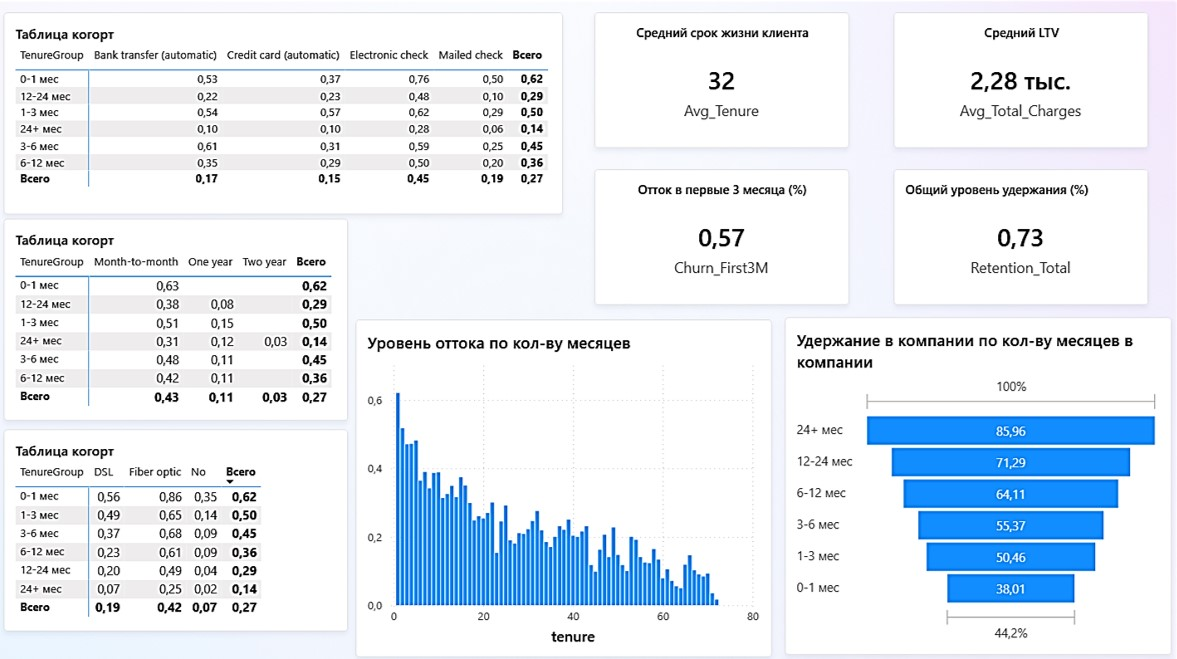

What the dashboard file says about the page in this screenshot:
{"tool":"powerbi","page":{"name":"Воронка удержания","canvas":[1280,720],"ordinal":1},"visuals":[{"type":"funnel","title":"Удержание в компании по количеству месяцев в компании","fields":{"Category":["Telcom.TenureGroup"],"Y":["Telcom.Удержание_в_группе"]},"box":[830.2,283.5,442.8,426.6],"z":0},{"type":"clusteredColumnChart","title":"Уровень оттока по кол-ву месяцев","fields":{"Category":["Telcom.tenure"],"Y":["Telcom.Уровень_Оттока"]},"box":[253.8,283.5,566.9,426.6],"z":1},{"type":"pivotTable","title":"Таблица когорт","fields":{"Rows":["Telcom.TenureGroup"],"Columns":["Telcom.InternetService"],"Values":["Telcom.Уровень_Оттока"]},"box":[522.4,12.1,334.8,245.7],"z":2},{"type":"pivotTable","title":"Таблица когорт","fields":{"Rows":["Telcom.TenureGroup"],"Values":["Telcom.Уровень_Оттока"],"Columns":["Telcom.Contract"]},"box":[878.8,12.1,400.9,245.7],"z":3},{"type":"card","title":"Средний срок жизни клиента","fields":{"Values":["Telcom.AvgTenure"]},"box":[9.4,226.8,216,113.4],"z":4},{"type":"card","title":"Средний LTV","fields":{"Values":["Telcom.Avg_Total_Charges"]},"box":[9.4,344.2,216,110.7],"z":5},{"type":"card","title":"Отток в первые 3 месяца (%)","fields":{"Values":["Telcom.Churn_First3M"]},"box":[9.4,464.4,216,112],"z":6},{"type":"card","title":"Общий уровень удержания (%)","fields":{"Values":["Telcom.Retention_Total"]},"box":[9.4,580.4,216,129.6],"z":7},{"type":"pivotTable","title":"Таблица когорт","fields":{"Rows":["Telcom.TenureGroup"],"Values":["Telcom.Уровень_Оттока"],"Columns":["Telcom.PaymentMethod"]},"box":[0,12.1,507.5,203.8],"z":8}]}

Visuals, with their boxes in screenshot pixels (x1, y1, x2, y2), scaled from the page's 1280x720 canvas onto the 1177x659 screenshot:
"Удержание в компании по количеству месяцев в компании" funnel: BBox(763, 259, 1171, 650)
"Уровень оттока по кол-ву месяцев" clusteredColumnChart: BBox(233, 259, 755, 650)
"Таблица когорт" pivotTable: BBox(480, 11, 788, 236)
"Таблица когорт" pivotTable: BBox(808, 11, 1176, 236)
"Средний срок жизни клиента" card: BBox(9, 208, 207, 311)
"Средний LTV" card: BBox(9, 315, 207, 416)
"Отток в первые 3 месяца (%)" card: BBox(9, 425, 207, 528)
"Общий уровень удержания (%)" card: BBox(9, 531, 207, 650)
"Таблица когорт" pivotTable: BBox(0, 11, 467, 198)
